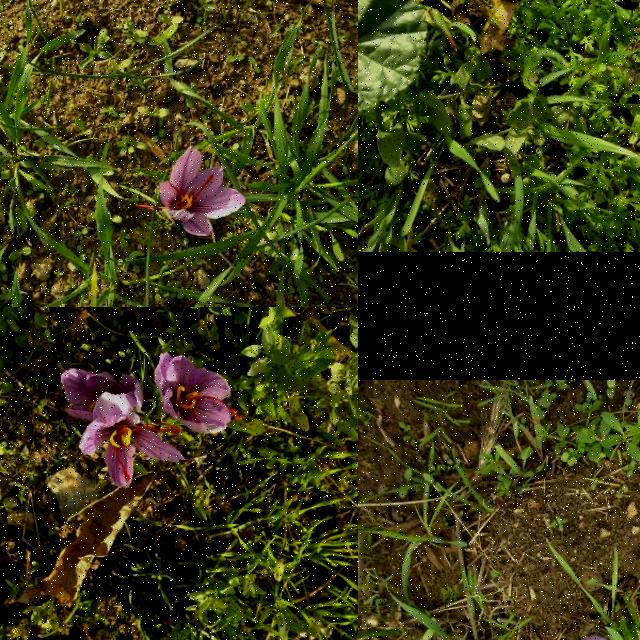flower: (137, 146, 246, 238), (154, 352, 240, 434)
overlap: (61, 369, 185, 487)
